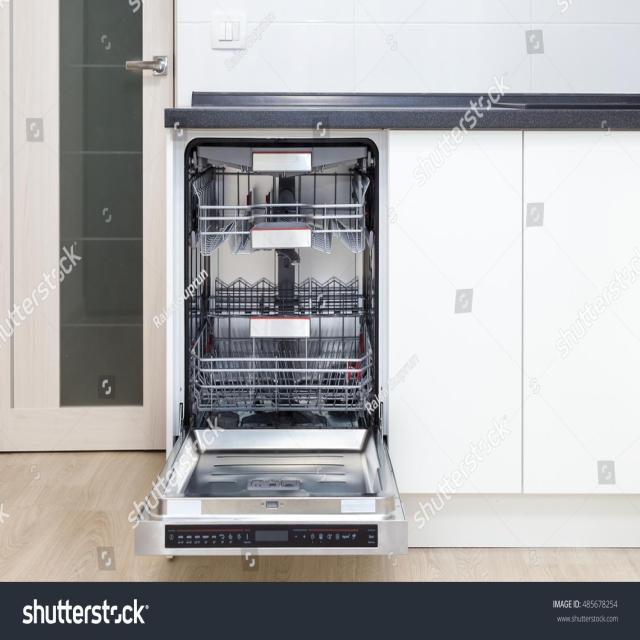dishwasher: (136, 130, 398, 564)
